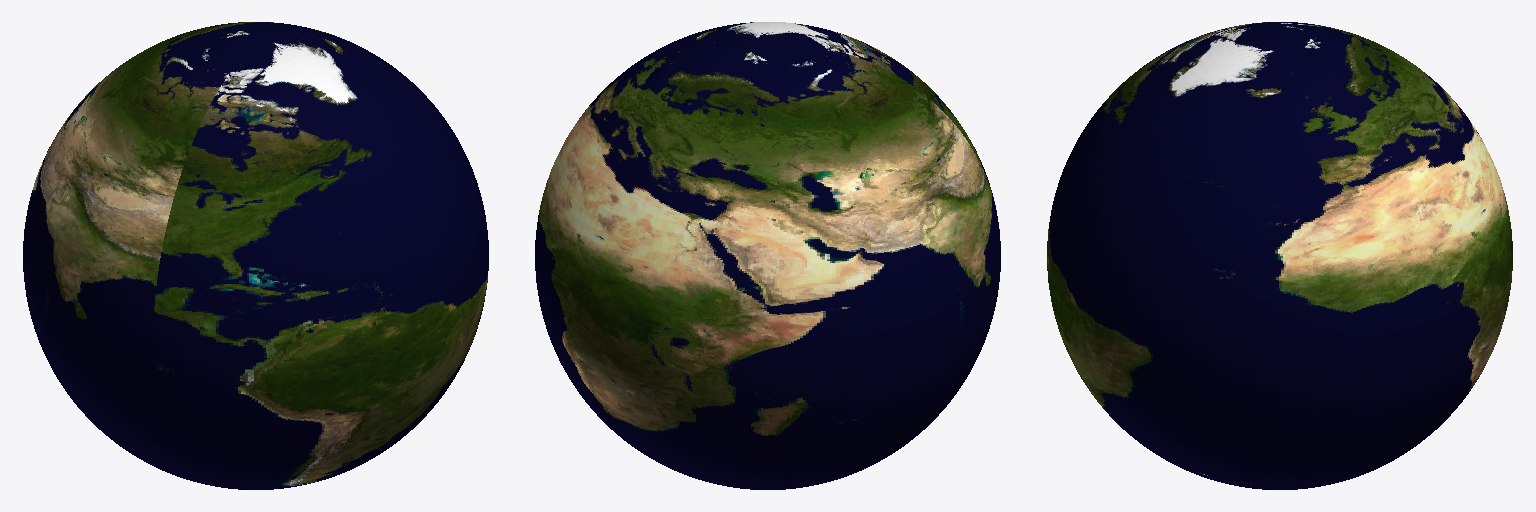
The picture shows the model from 3 angles: view 1: azimuth 30°, elevation 25°; view 2: azimuth 150°, elevation 25°; view 3: azimuth 270°, elevation 25°; orthographic projection.
Visible parts, largest first — view 1: Sphere; view 2: Sphere; view 3: Sphere.
Boxes of the visible parts, box(x1,y1,x2,y2) form: Sphere: box(23, 22, 488, 489); Sphere: box(535, 22, 1000, 489); Sphere: box(1047, 22, 1512, 489).
Size of the model in its own units: 1.98 by 2 by 1.98.
Materials: 1 (1 with a texture image).